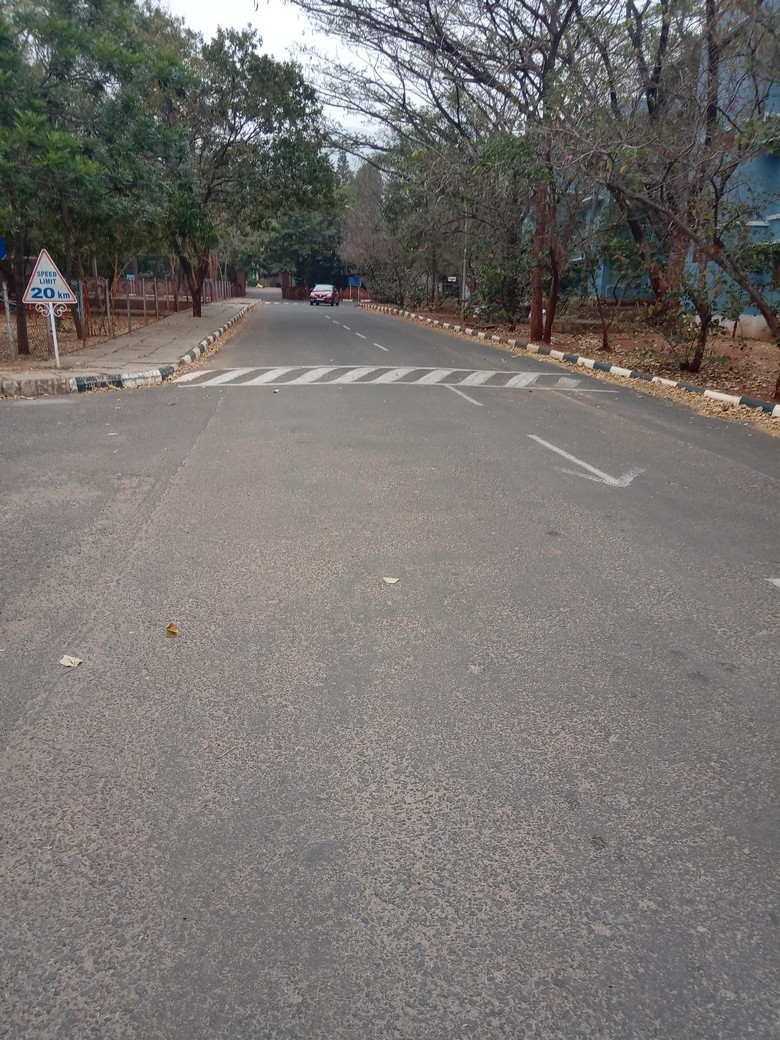bump: (175, 362, 624, 396)
